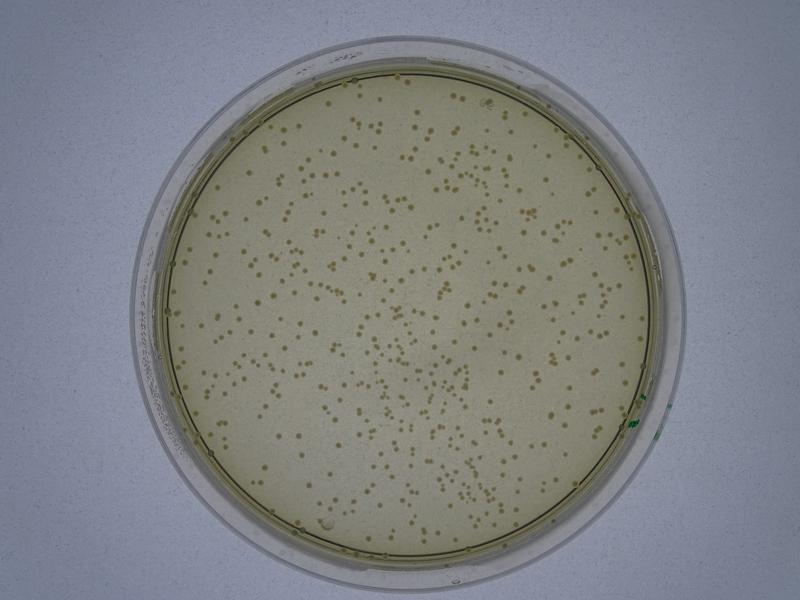colony: (374, 93, 387, 106), (448, 334, 460, 347), (362, 533, 374, 545), (517, 227, 530, 238), (243, 168, 256, 179), (485, 395, 496, 408), (419, 261, 430, 274), (369, 142, 381, 153), (209, 250, 222, 260), (514, 351, 524, 364), (324, 466, 334, 479), (483, 330, 496, 340), (311, 294, 322, 305), (543, 273, 554, 284), (423, 164, 433, 176), (325, 98, 335, 109), (412, 107, 422, 118), (240, 214, 251, 224), (239, 246, 249, 257), (304, 479, 314, 490), (334, 441, 345, 451), (338, 379, 348, 390), (253, 297, 262, 309), (470, 344, 479, 356), (338, 132, 348, 142), (296, 450, 306, 460), (261, 462, 270, 473), (495, 368, 506, 377), (462, 301, 472, 310), (295, 430, 304, 440), (354, 292, 364, 301), (561, 419, 569, 430), (195, 321, 204, 330), (320, 209, 328, 219), (309, 329, 319, 337), (457, 213, 465, 221), (275, 431, 282, 440)
